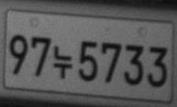3: (146, 46, 168, 87), (123, 44, 144, 85)
5: (77, 40, 97, 82)
7: (100, 40, 122, 83), (30, 36, 51, 76)
9: (8, 33, 28, 74)
누: (53, 45, 73, 79)
